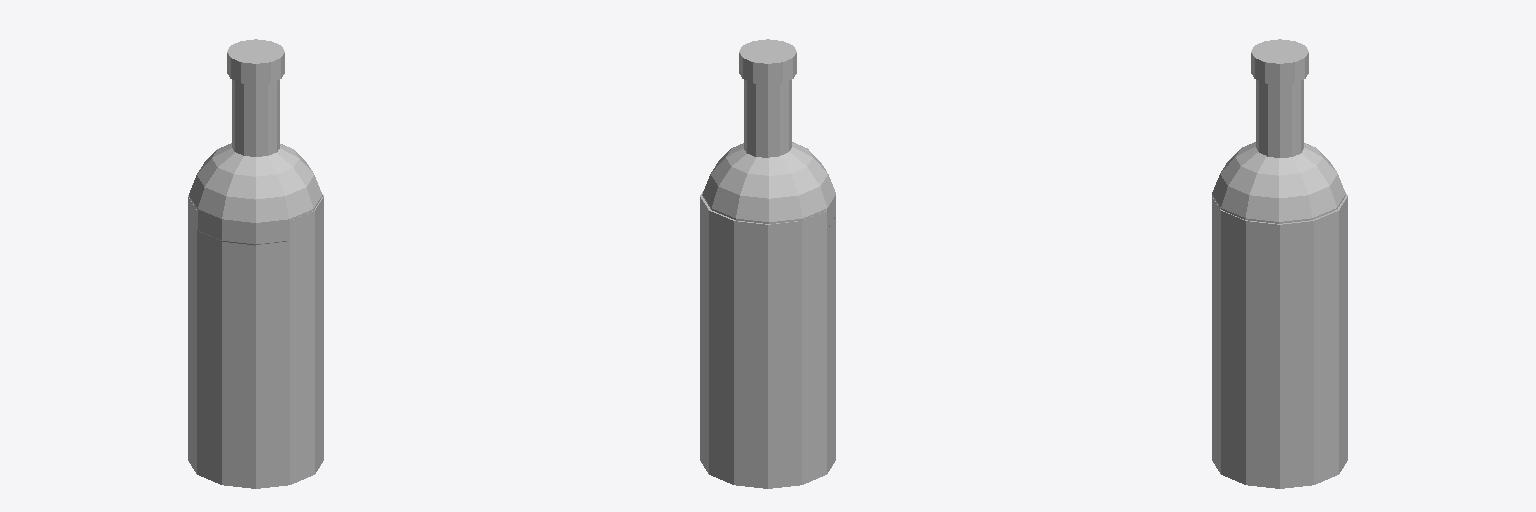
3 views of the same model, side by side, from view 1: azimuth 30°, elevation 25°; view 2: azimuth 150°, elevation 25°; view 3: azimuth 270°, elevation 25° (orthographic).
Visible parts, largest first — view 1: group[number redacted], group[number redacted], group[number redacted], group[number redacted]; view 2: group[number redacted], group[number redacted], group[number redacted], group[number redacted]; view 3: group[number redacted], group[number redacted], group[number redacted], group[number redacted].
Part boxes in pixels (bbox=[...]): group[number redacted]: bbox=[188, 194, 323, 488]; group[number redacted]: bbox=[189, 143, 322, 245]; group[number redacted]: bbox=[232, 80, 279, 156]; group[number redacted]: bbox=[227, 39, 284, 84]; group[number redacted]: bbox=[700, 192, 835, 488]; group[number redacted]: bbox=[702, 142, 835, 229]; group[number redacted]: bbox=[744, 80, 791, 157]; group[number redacted]: bbox=[739, 39, 796, 84]; group[number redacted]: bbox=[1212, 192, 1347, 488]; group[number redacted]: bbox=[1212, 142, 1345, 223]; group[number redacted]: bbox=[1256, 80, 1303, 157]; group[number redacted]: bbox=[1251, 39, 1308, 84].
Bounding box in the file's own units: 0.07 × 0.232 × 0.07.